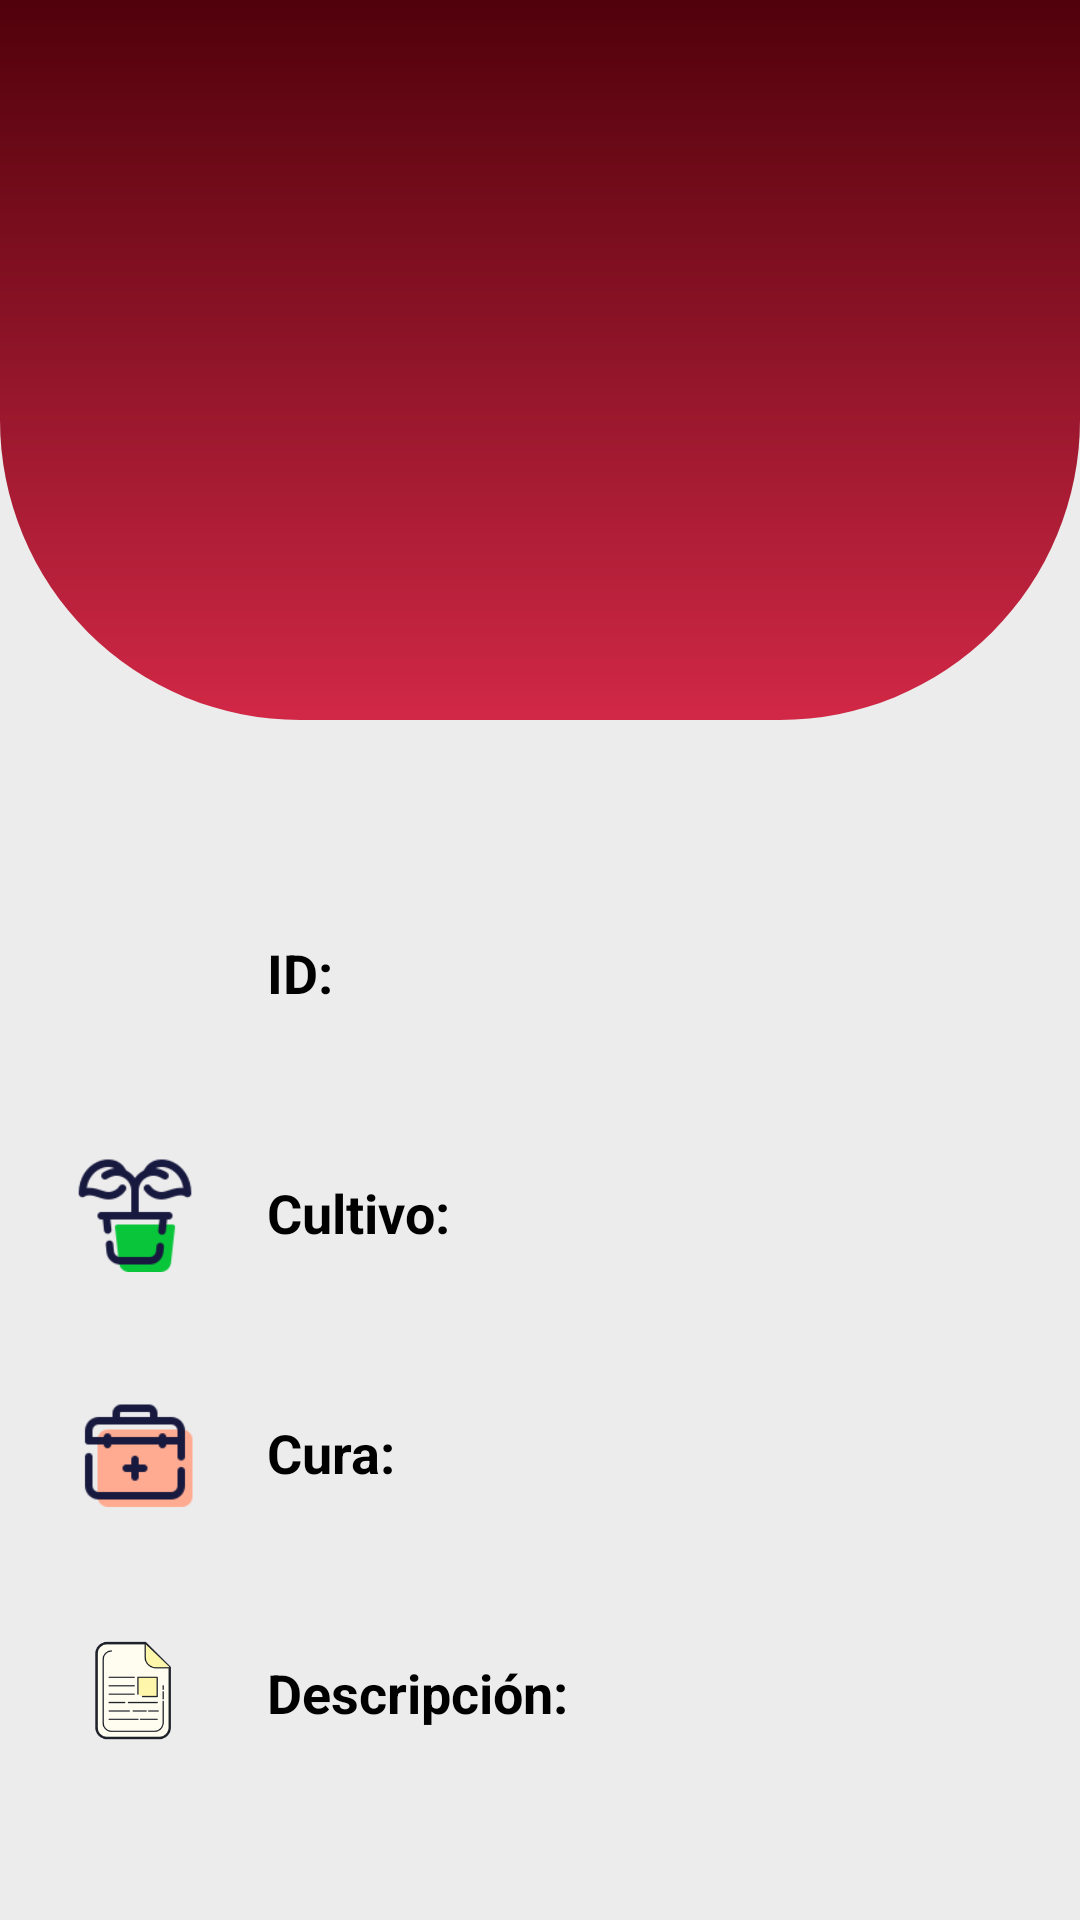

Point at icon controls on the screen. Image size 1080w x 1920h, points as (x,y).
medkit: (139,1455)
planta: (135,1215)
